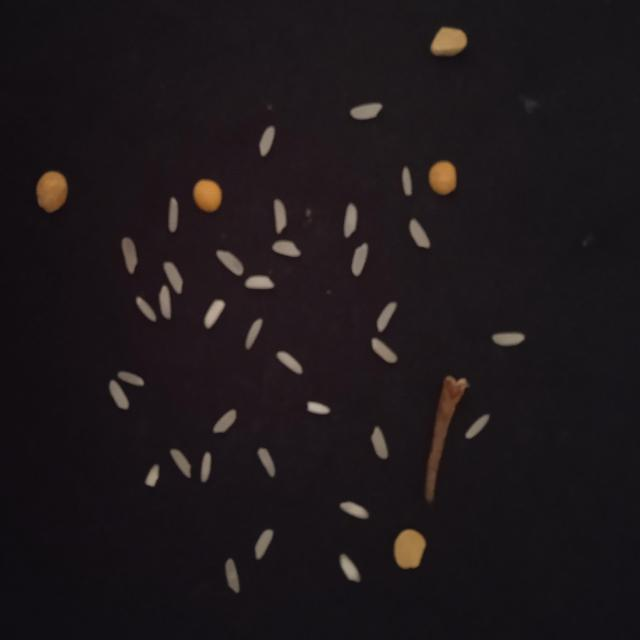Broken: (143, 464, 160, 487), (307, 400, 331, 414)
Full: (216, 250, 244, 276), (372, 336, 398, 364), (408, 218, 431, 249), (276, 350, 304, 375), (164, 261, 184, 295), (108, 380, 130, 410), (170, 449, 192, 479), (121, 237, 138, 275), (351, 242, 369, 277), (204, 299, 225, 329), (212, 409, 238, 433), (371, 425, 389, 459), (340, 554, 361, 583), (465, 413, 489, 438), (378, 302, 398, 332), (254, 530, 274, 560), (340, 500, 370, 520), (350, 102, 383, 120), (271, 239, 302, 258), (245, 317, 263, 349), (257, 447, 276, 477), (272, 199, 288, 234), (342, 203, 358, 238), (258, 125, 276, 156), (225, 558, 240, 594), (137, 296, 157, 322), (245, 274, 275, 290), (492, 332, 526, 346), (159, 286, 173, 320), (200, 451, 212, 483), (117, 372, 144, 386), (168, 196, 178, 233), (402, 166, 413, 196)
